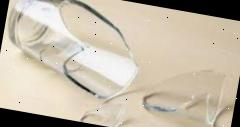glass: (0, 0, 151, 106)
